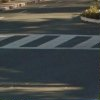crosswalk: (0, 34, 99, 49)
